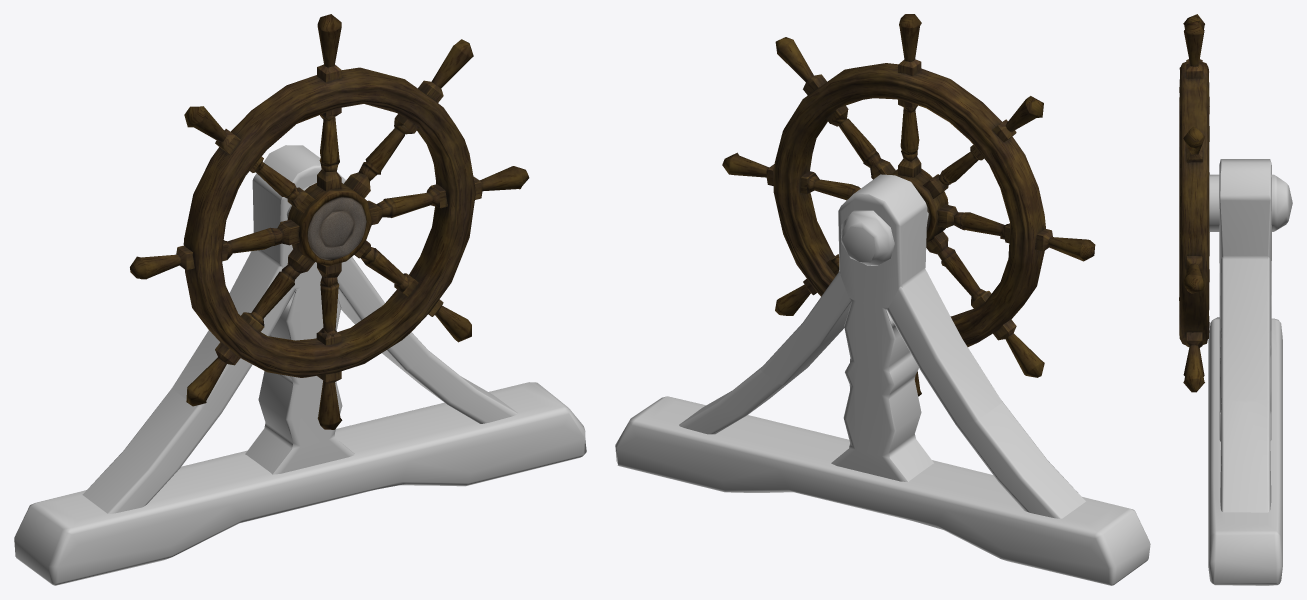
Rendered from SM_SteeringWheel.fbx.
The picture shows the model from 3 angles, left to right: view 1: azimuth 30°, elevation 25°; view 2: azimuth 150°, elevation 25°; view 3: azimuth 270°, elevation 25°; orthographic projection. The views are drawn at different scales.
Parts seen in each view (by area): view 1: SM_SteeringWheel_LOD0; view 2: SM_SteeringWheel_LOD0; view 3: SM_SteeringWheel_LOD0.
Boxes of the visible parts, bbox=[...] form: SM_SteeringWheel_LOD0: bbox=[14, 14, 586, 585]; SM_SteeringWheel_LOD0: bbox=[615, 14, 1150, 585]; SM_SteeringWheel_LOD0: bbox=[1179, 14, 1292, 585].
Size of the model in its own units: 200 by 41.76 by 183.
